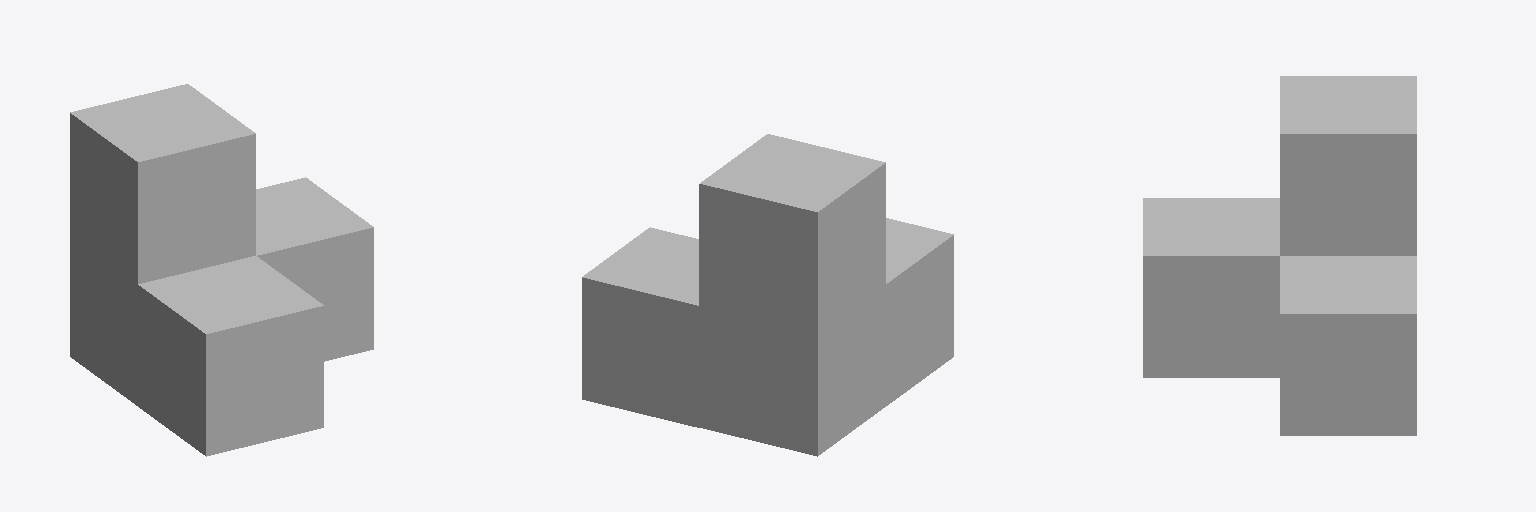
Rendered from tvplus.obj.
3 views of the same model, side by side, from view 1: azimuth 30°, elevation 25°; view 2: azimuth 150°, elevation 25°; view 3: azimuth 270°, elevation 25° (orthographic).
Parts seen in each view (by area): view 1: Regroup02; view 2: Regroup02; view 3: Regroup02.
Part boxes in pixels (bbox=[...]): Regroup02: bbox=[70, 84, 373, 456]; Regroup02: bbox=[582, 134, 953, 456]; Regroup02: bbox=[1143, 76, 1416, 435].
Bounding box in the file's own units: 5 × 4.94 × 5.